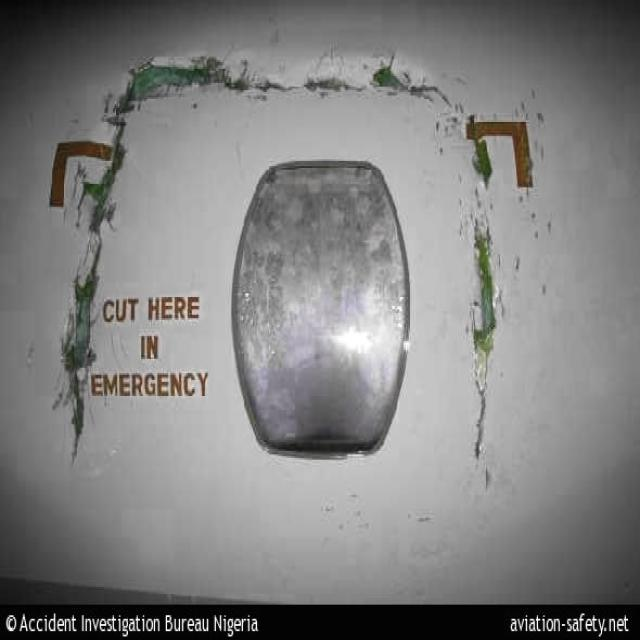crack: (58, 125, 133, 474), (119, 54, 458, 120), (471, 215, 498, 470), (473, 143, 497, 187)
